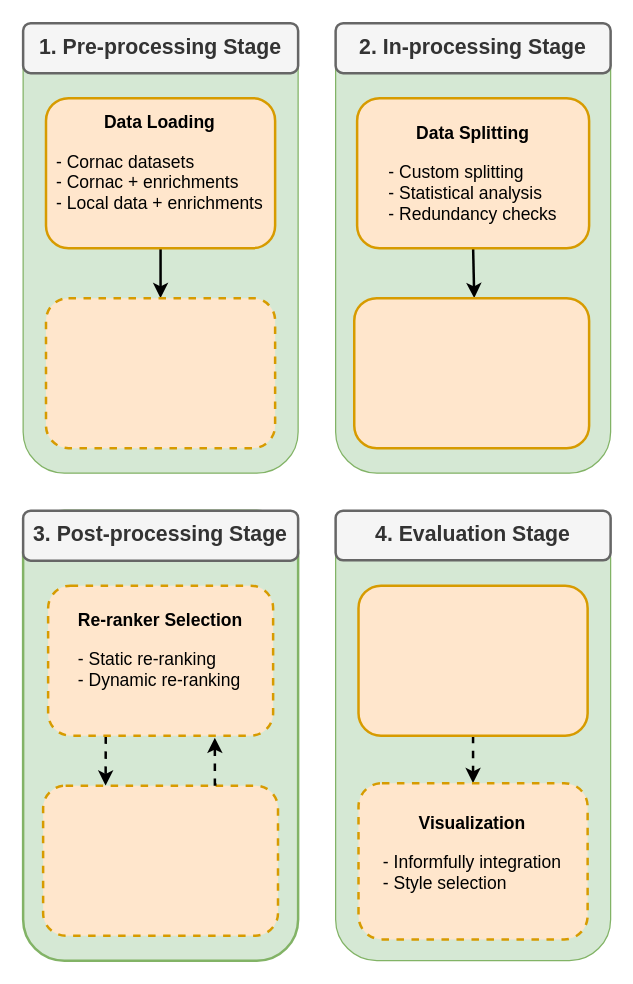
This 633x984 diagram has some shape labels left out. The shapes that lost their labels are listed below. From the top down, each one's box as (x1, y1, x2, y2) in pixels, then its label:
(44, 296, 276, 449): Data Augmentation - Data augmentation - Data exclusion - Data cleaning
(352, 296, 590, 449): Model Selection - Normative models - Random walks - Neural models
(357, 584, 588, 736): Metrics - Normative diversity - Traditional diversity
(41, 784, 279, 936): User Simulator - Define user model - Set iterations/duration
